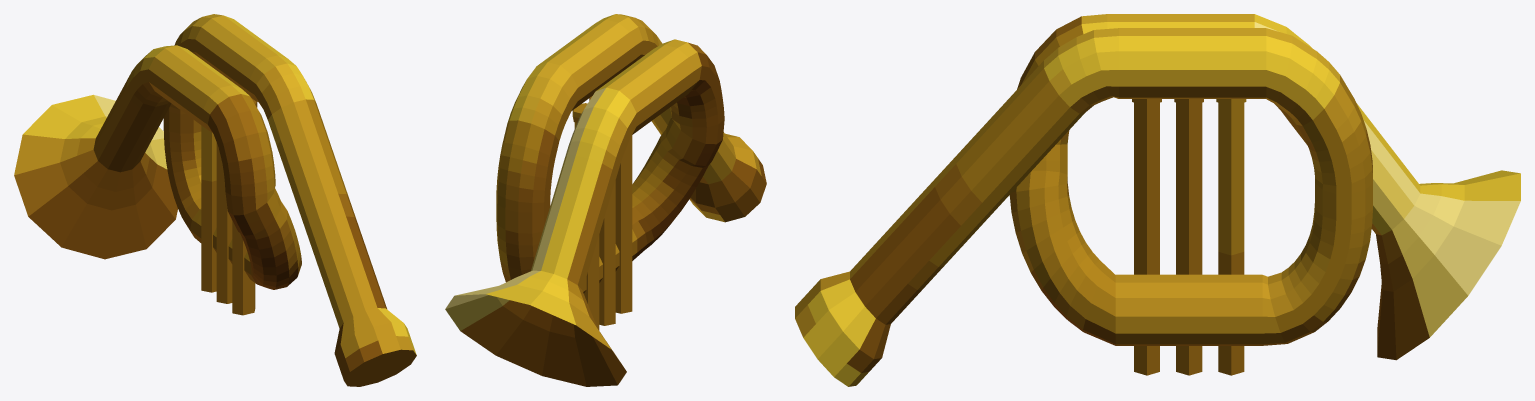
Rendered from horn_888x01.gltf.
3 views of the same model, side by side, from view 1: azimuth 30°, elevation 25°; view 2: azimuth 150°, elevation 25°; view 3: azimuth 270°, elevation 25° (orthographic). The views are drawn at different scales.
Parts seen in each view (by area): view 1: Horn_888x01; view 2: Horn_888x01; view 3: Horn_888x01.
Boxes of the visible parts, x1,y1,x2,y2 form: Horn_888x01: (14, 14, 416, 386); Horn_888x01: (445, 14, 766, 386); Horn_888x01: (795, 14, 1520, 386).
Size of the model in its own units: 1.05 by 1.58 by 2.99.
Materials: 1 (1 with a texture image).
